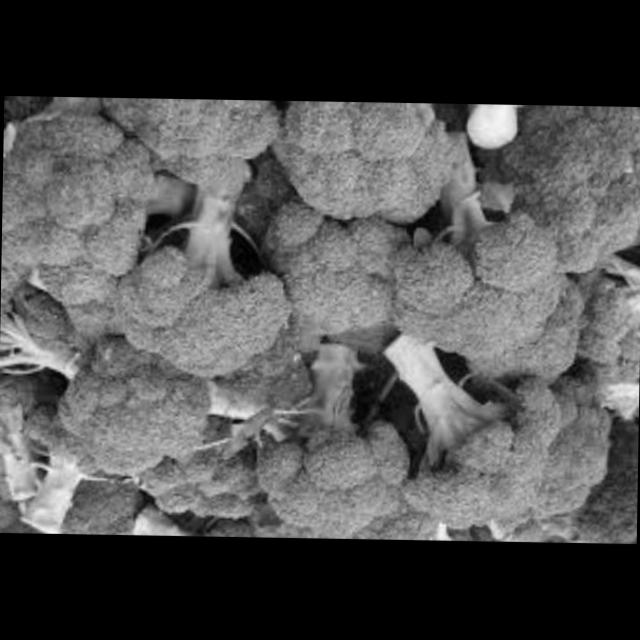bong cai xanh: (0, 96, 635, 541)
